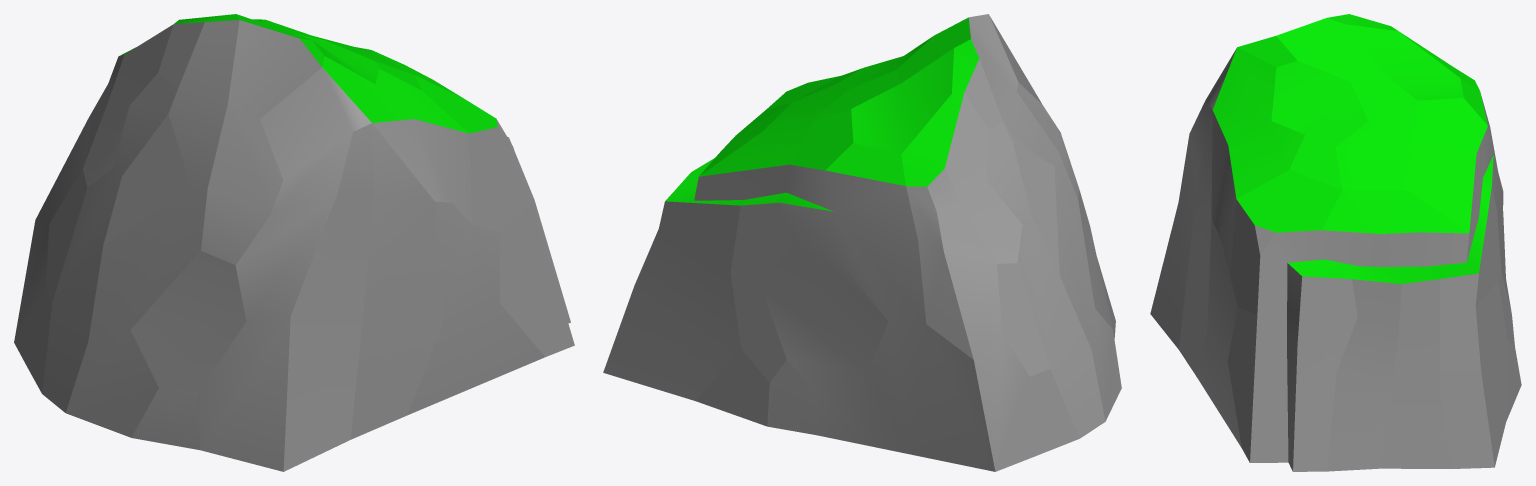
File: rock_jungle_medium_D.fbx
3 views of the same model, side by side, from view 1: azimuth 30°, elevation 25°; view 2: azimuth 150°, elevation 25°; view 3: azimuth 270°, elevation 25° (orthographic). The views are drawn at different scales.
Visible parts, largest first — view 1: rock_jungle_medium_D; view 2: rock_jungle_medium_D; view 3: rock_jungle_medium_D.
Boxes of the visible parts, x1=… form: rock_jungle_medium_D: x1=14, y1=14, x2=574, y2=471; rock_jungle_medium_D: x1=603, y1=14, x2=1121, y2=471; rock_jungle_medium_D: x1=1150, y1=14, x2=1521, y2=471.
Bounding box in the file's own units: 92.05 × 67.96 × 71.41.
